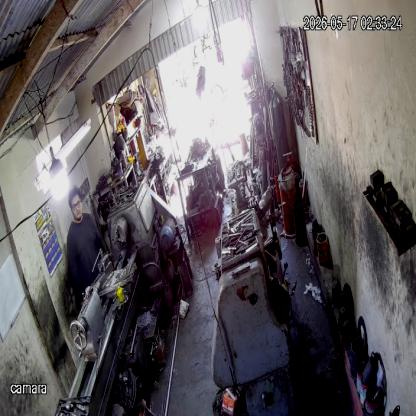lentes: (70, 200, 83, 212)
